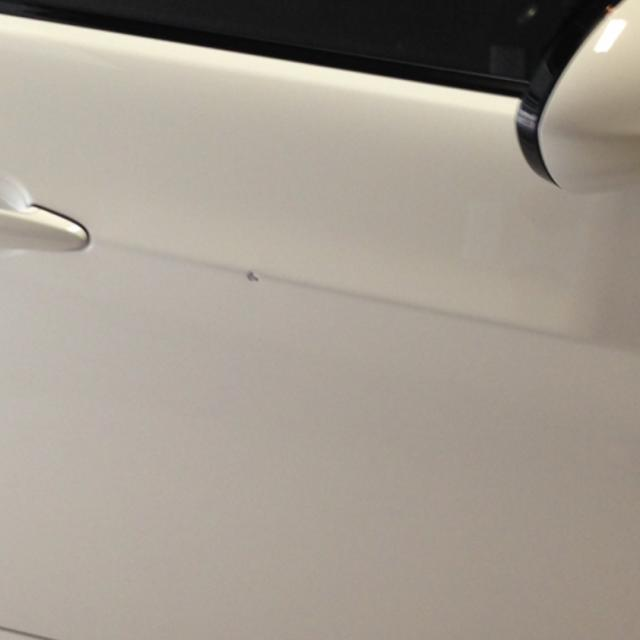dents: (229, 255, 289, 329)
